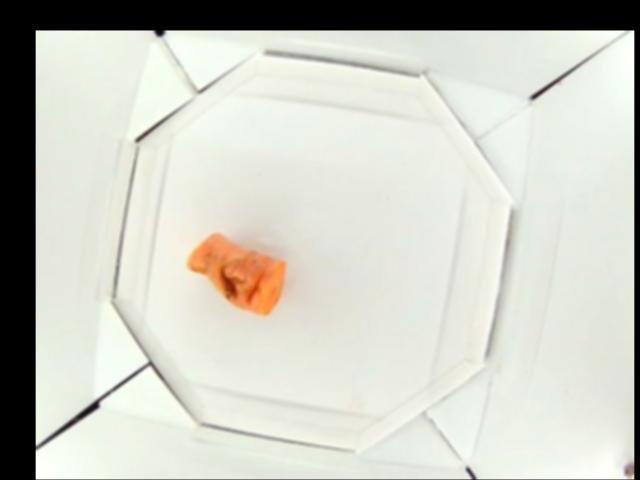Carrot: (188, 232, 285, 313)
